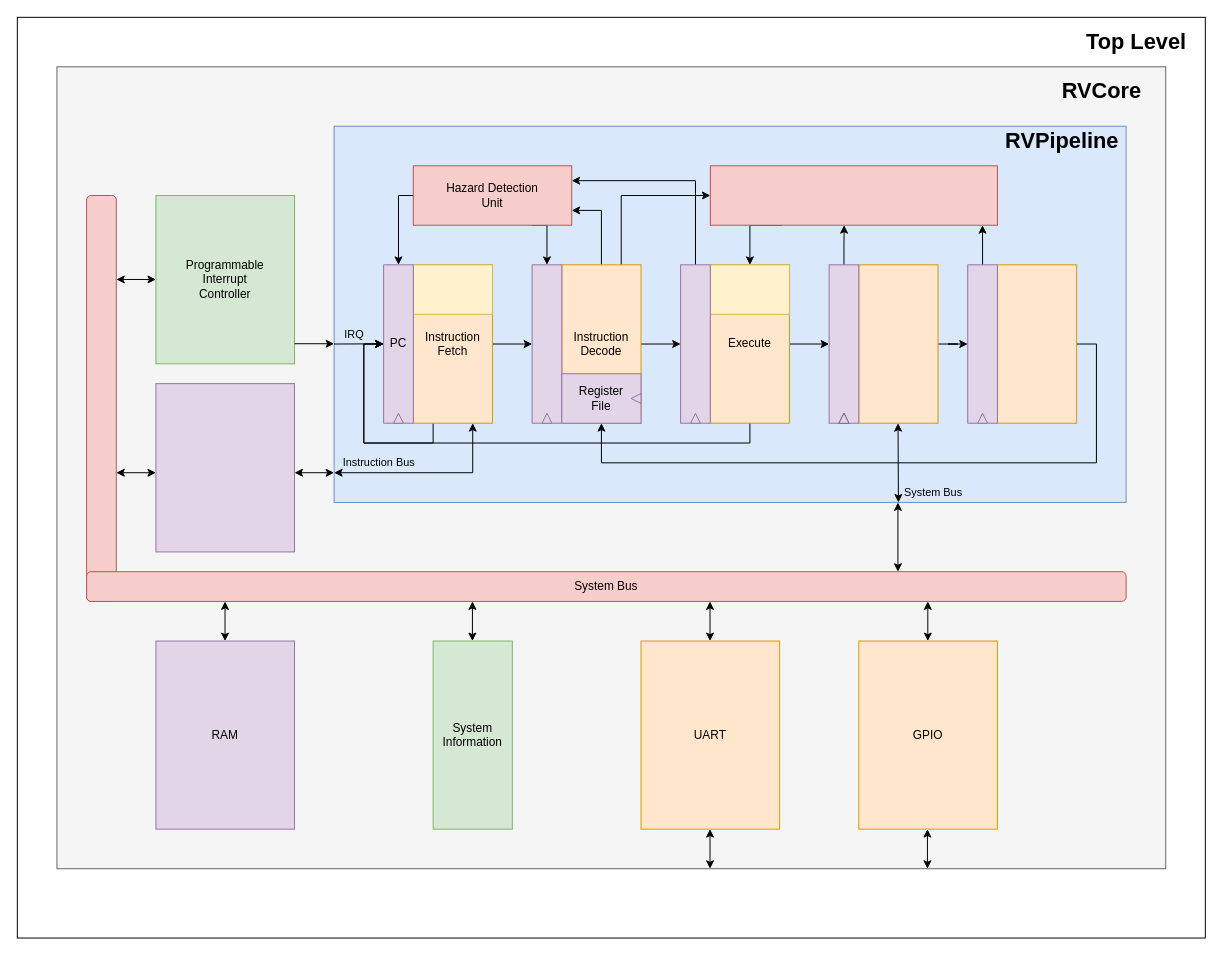
The diagram is 1223 pixels wide and 955 high, and some of its shapes have lost their labels. Here are the shapes that lost their labels. From the top down, the box of each, then its label:
(709, 165, 997, 225): Forwarding Unit
(412, 264, 493, 314): Branch Prediction
(709, 264, 790, 314): ALU
(858, 264, 938, 423): Memory
(996, 264, 1077, 423): Write Back
(155, 383, 295, 552): Instruction ROM
